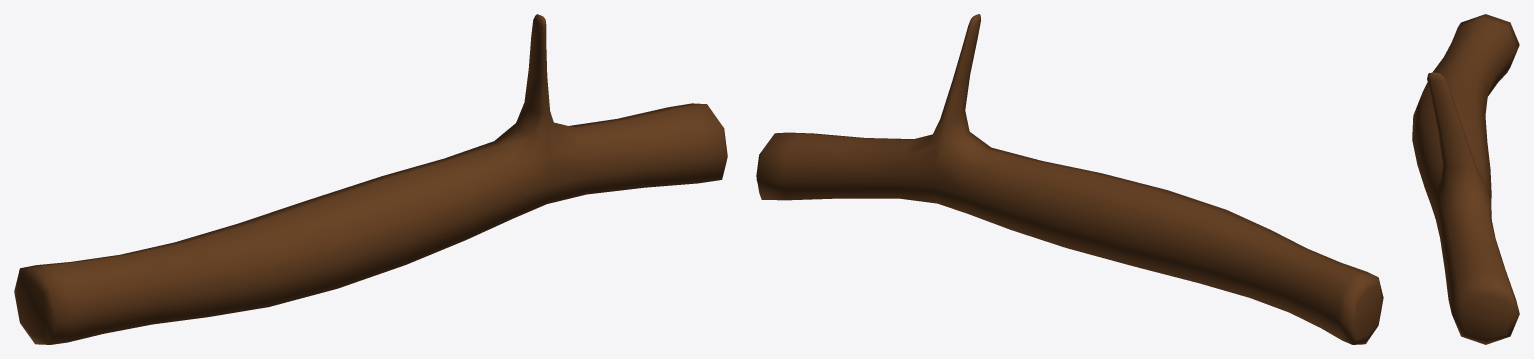
File: SM_stock.fbx
The picture shows the model from 3 angles, left to right: view 1: azimuth 30°, elevation 25°; view 2: azimuth 150°, elevation 25°; view 3: azimuth 270°, elevation 25°; orthographic projection. The views are drawn at different scales.
Visible parts, largest first — view 1: stock.001; view 2: stock.001; view 3: stock.001.
Boxes of the visible parts, left/top/right/bottom form: stock.001: left=14, top=14, right=727, bottom=344; stock.001: left=756, top=14, right=1383, bottom=344; stock.001: left=1412, top=14, right=1519, bottom=344.
Size of the model in its own units: 196 by 64.68 by 32.5.
